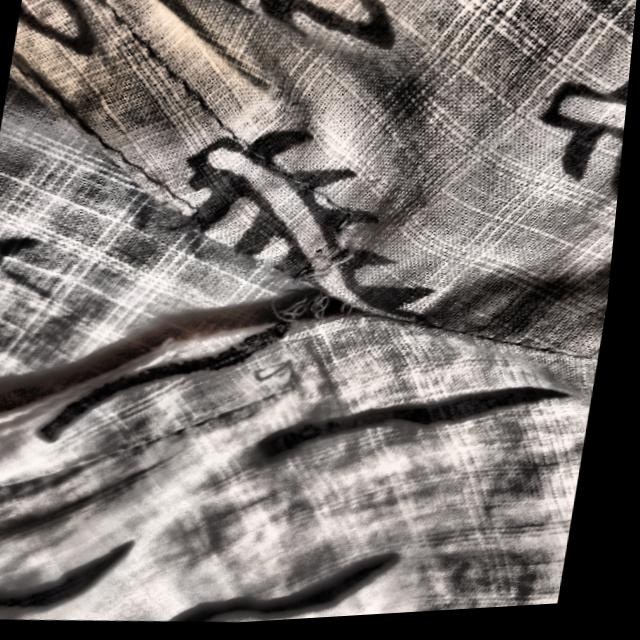Stitch: (247, 183, 382, 371)
